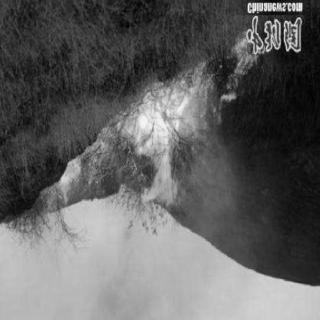Fire: (123, 80, 194, 216), (213, 31, 261, 123)
